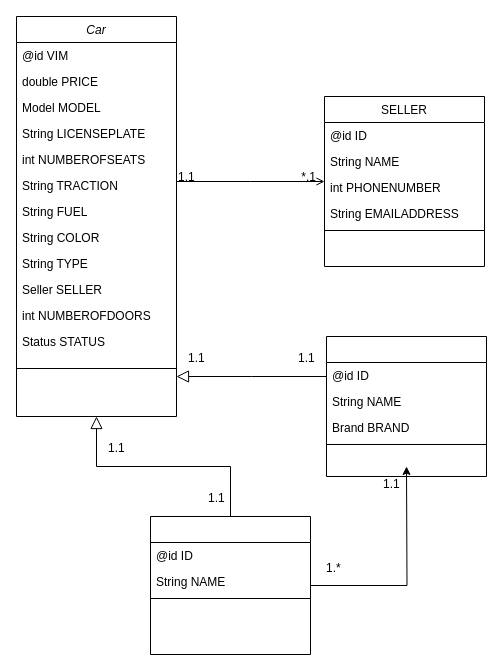
Some shapes in this 503 by 671 pixel diagram are drawn without their labels. Here are the shapes that lost their labels. From the top down, the box of each, then its label:
(326, 336, 486, 476): MODEL
(150, 516, 310, 654): BRAND
